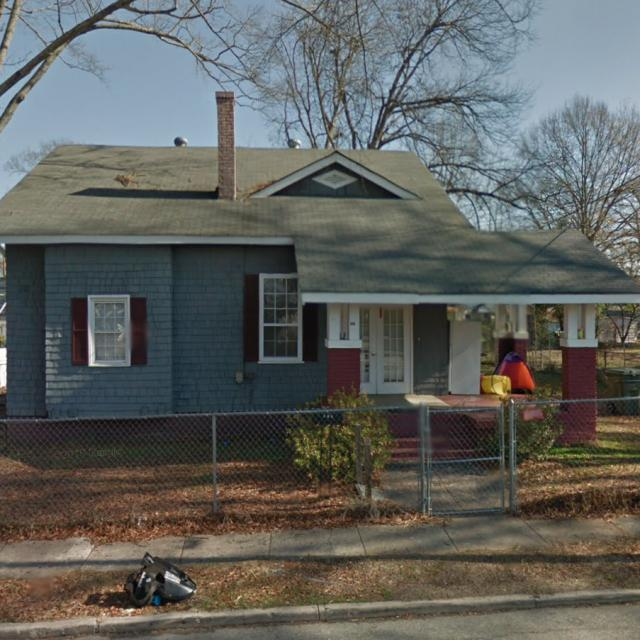House: (0, 91, 640, 464)
